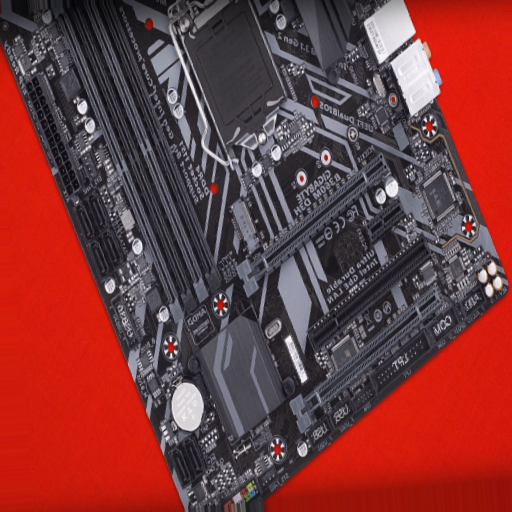CPU: (170, 4, 320, 186)
GPU: (287, 285, 448, 435), (236, 154, 392, 300), (304, 234, 433, 357)
MOTHERBOARD: (1, 3, 512, 510)
RAM: (48, 2, 227, 320)
SSD: (228, 198, 261, 253)
